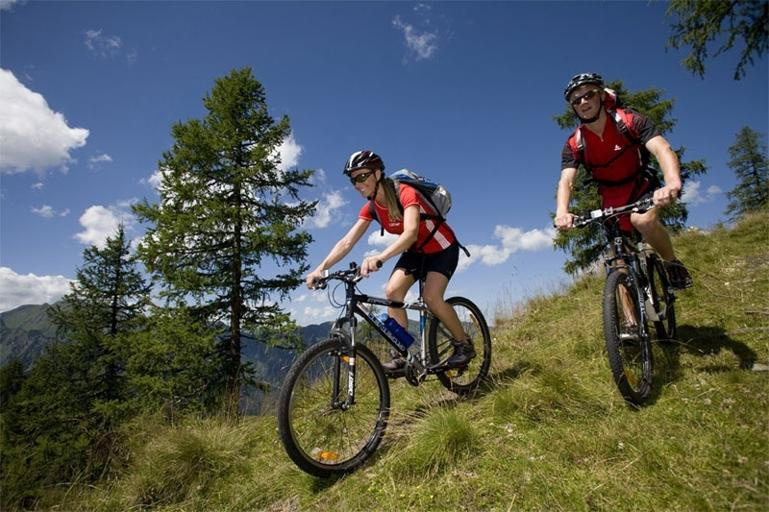non-vehicle: (277, 259, 491, 479), (552, 190, 692, 409)
